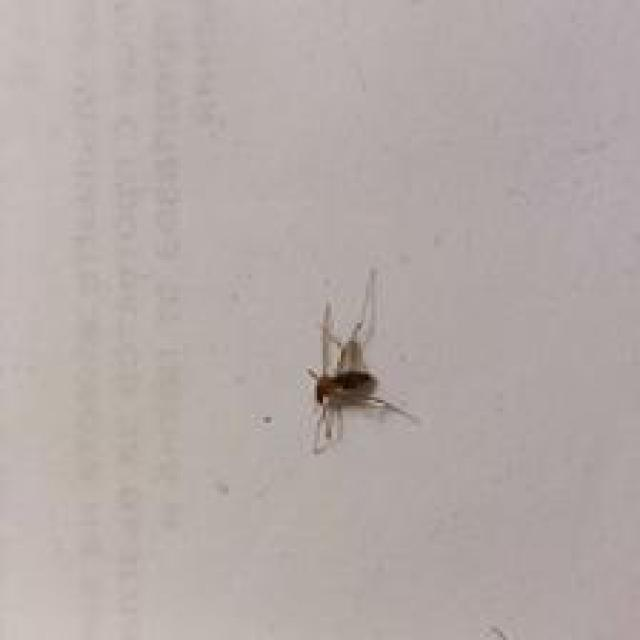Culex: (304, 266, 419, 454)
